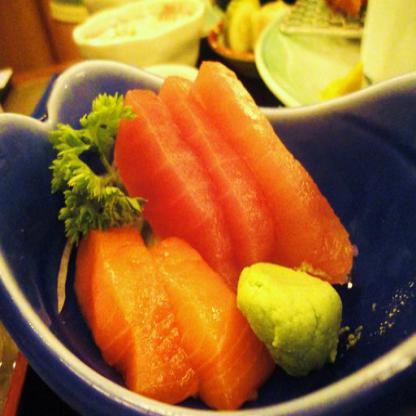salmon: (70, 64, 348, 403)
